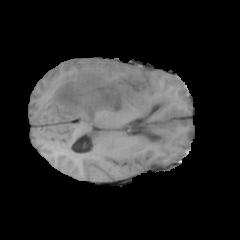glioma: (49, 70, 178, 144)
